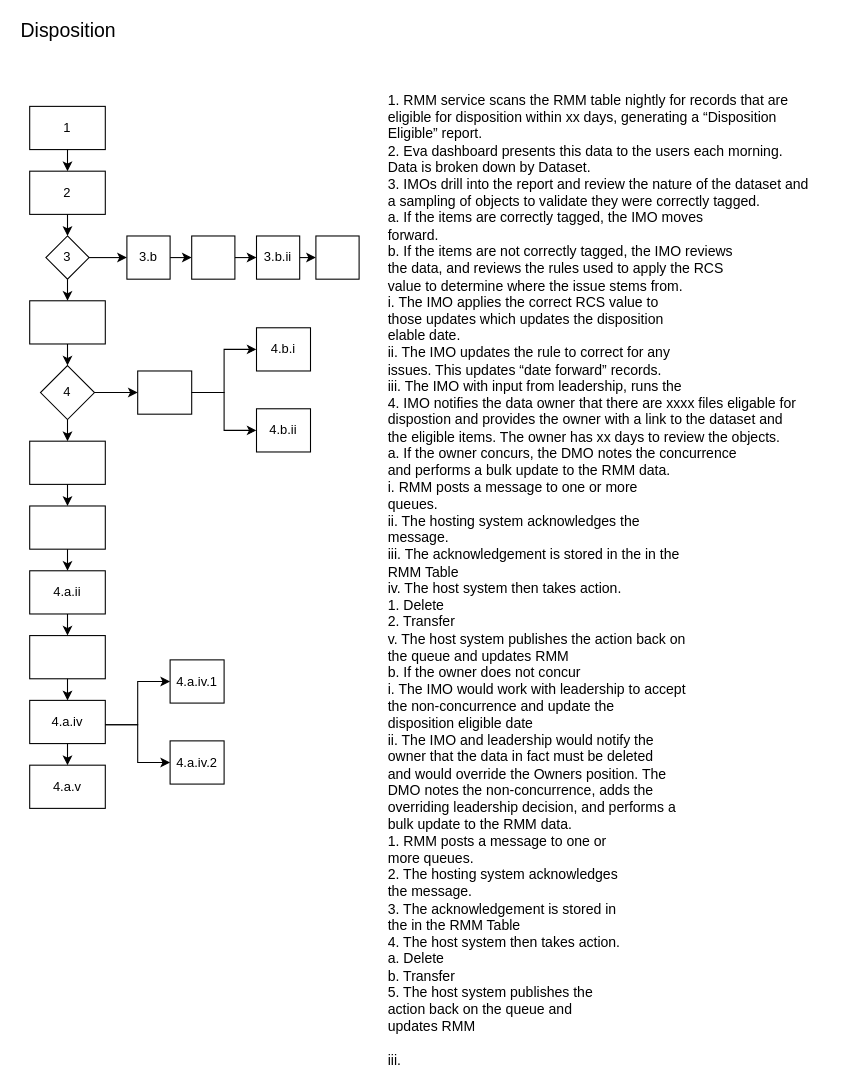
Some shapes in this 858 by 1086 pixel diagram are drawn without their labels. Here are the shapes that lost their labels. From the top down, the centre of each, then its label:
At point (213, 257): "3.b.i".
At point (337, 257): "3.b.iii".
At point (67, 322): "3.a".
At point (164, 392): "4.b".
At point (67, 462): "4.a".
At point (67, 527): "4.a.i".
At point (67, 656): "4.a.iii".
